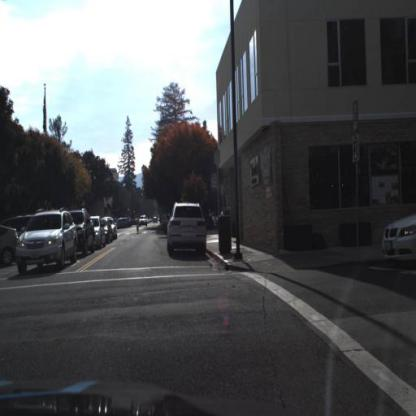car: (18, 207, 78, 275), (379, 204, 416, 269), (167, 203, 205, 258), (72, 209, 97, 257), (74, 206, 95, 256), (90, 215, 103, 248), (103, 219, 114, 245), (109, 216, 118, 239), (117, 218, 133, 230), (140, 216, 148, 229)
